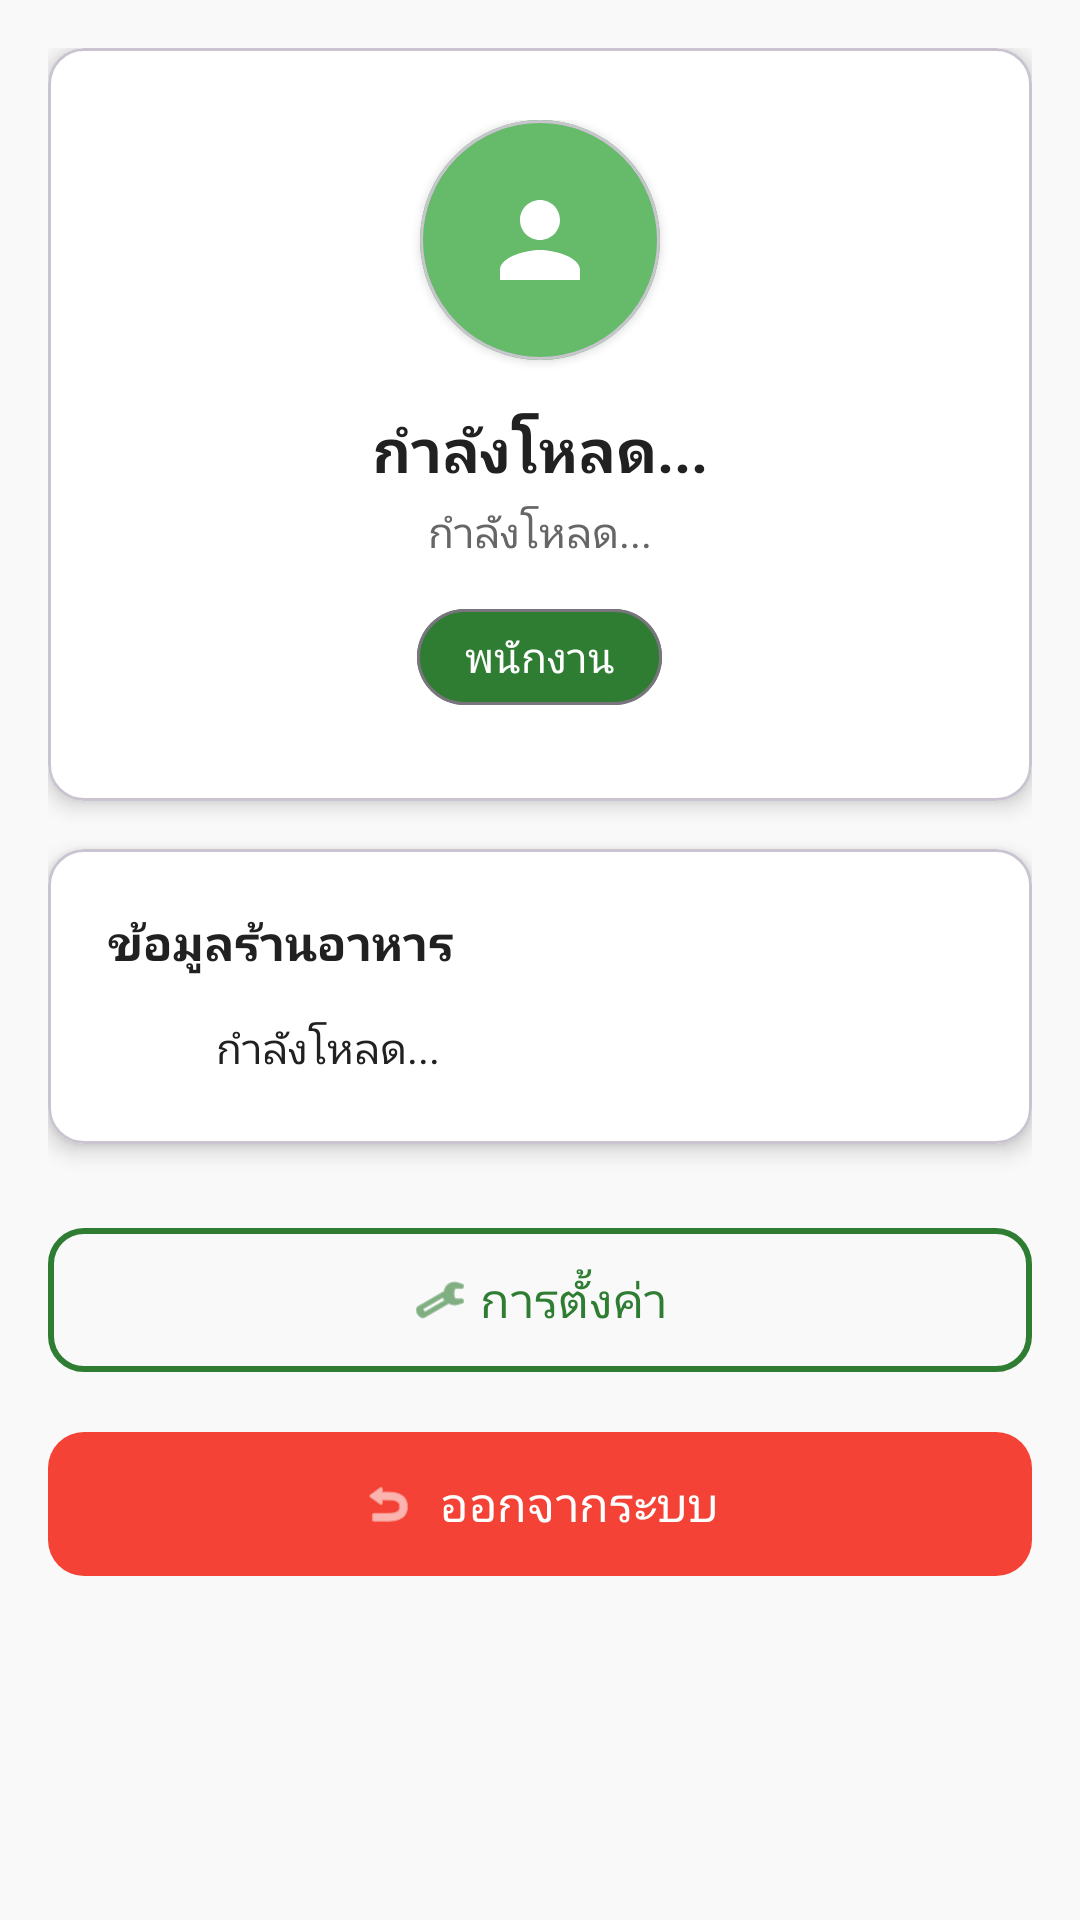

Named icons in this screenshot (1080 x 1920) and their centers, point (x, y):
profile: point (540, 240)
